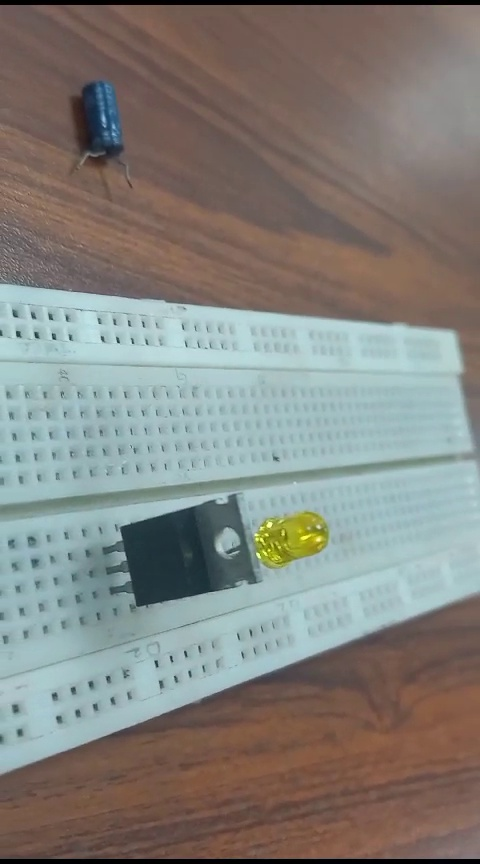LED: (248, 513, 328, 569)
voltage regulator: (100, 493, 260, 613)
